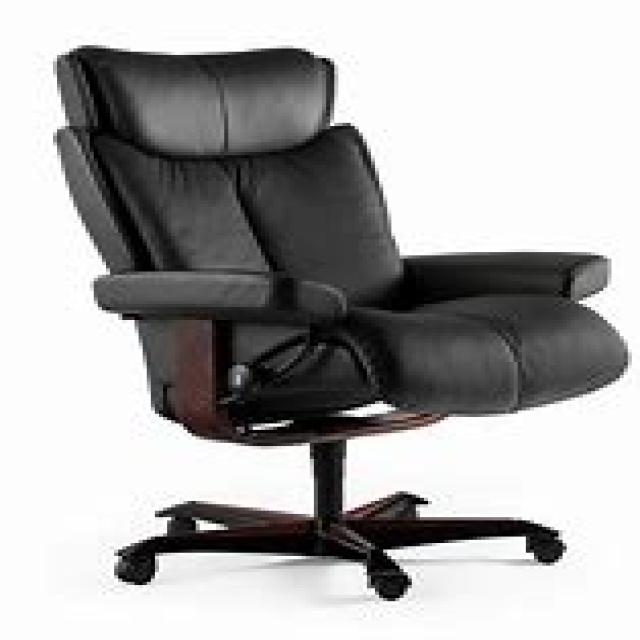chair: (49, 42, 628, 601)
